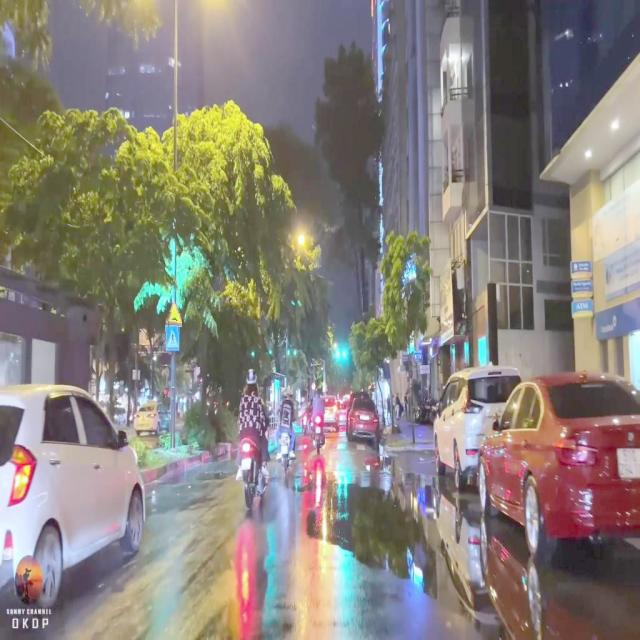duong_co_song_map_mo_nhan_tao: (165, 298, 182, 327)
duong_nguoi_di_bo_sang_ngang: (166, 324, 180, 351)
